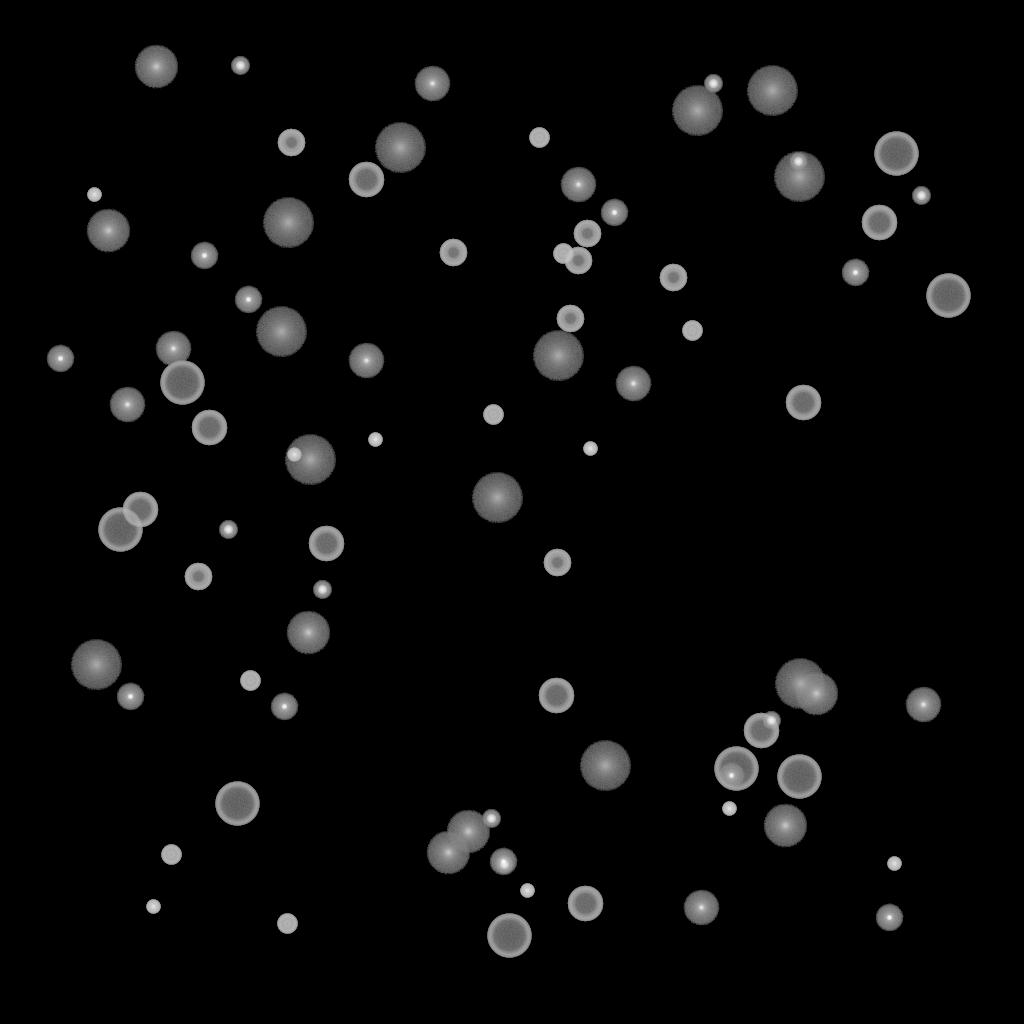depth:-10: (270, 693, 298, 721), (116, 683, 144, 711), (46, 345, 74, 373), (600, 199, 628, 227), (717, 762, 745, 790), (875, 904, 903, 932), (841, 259, 869, 287), (234, 286, 262, 314), (190, 242, 218, 270), (489, 848, 517, 876)
depth:-20: (789, 153, 807, 171), (482, 810, 500, 828), (313, 581, 331, 599), (219, 521, 237, 539), (762, 712, 780, 730), (495, 856, 513, 874), (704, 75, 722, 93), (912, 187, 930, 205), (231, 57, 249, 75)
depth:-30: (520, 884, 534, 898), (87, 188, 101, 202), (583, 442, 597, 456), (368, 433, 382, 447), (146, 900, 160, 914), (722, 802, 736, 816), (287, 448, 301, 462), (887, 857, 901, 871)
depth:-40: (240, 671, 260, 691), (529, 128, 549, 148), (682, 321, 702, 341), (553, 244, 573, 264), (483, 405, 503, 425), (277, 914, 297, 934), (161, 845, 181, 865)
depth:-50: (184, 563, 212, 591), (277, 129, 305, 157), (556, 305, 584, 333), (573, 220, 601, 248), (439, 239, 467, 267), (564, 247, 592, 275), (659, 264, 687, 292), (543, 549, 571, 577)
depth:-60: (308, 526, 344, 562), (538, 678, 574, 714), (785, 385, 821, 421), (348, 162, 384, 198), (191, 410, 227, 446), (122, 492, 158, 528), (743, 713, 779, 749), (567, 886, 603, 922), (861, 205, 897, 241)
depth:-70: (714, 747, 758, 791), (777, 755, 821, 799), (98, 508, 142, 552), (160, 361, 204, 405), (874, 132, 918, 176), (926, 274, 970, 318), (215, 782, 259, 826), (487, 914, 531, 958)
depth:0: (348, 343, 384, 379), (560, 167, 596, 203), (155, 331, 191, 367), (414, 66, 450, 102), (615, 366, 651, 402), (905, 687, 941, 723), (683, 890, 719, 926), (109, 387, 145, 423)
depth:10: (286, 611, 330, 655), (763, 804, 807, 848), (86, 209, 130, 253), (794, 672, 838, 716), (426, 831, 470, 875), (446, 810, 490, 854), (134, 45, 178, 89)
depth:20: (774, 659, 826, 709), (255, 307, 307, 357), (773, 152, 825, 202), (671, 86, 723, 136), (471, 473, 523, 523), (284, 435, 336, 485), (532, 331, 584, 381), (579, 741, 631, 791), (70, 640, 122, 690), (746, 66, 798, 116), (374, 123, 426, 173), (262, 198, 314, 248)
